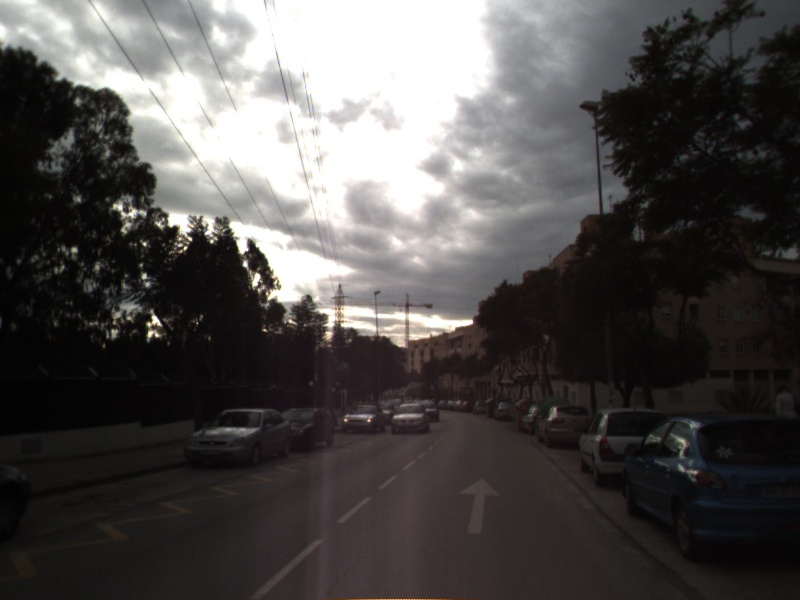STRAIGHT: (456, 476, 503, 536)
